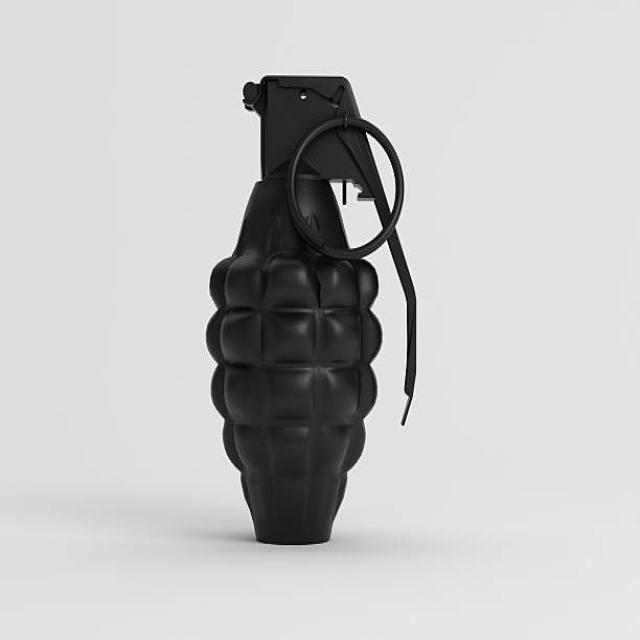grenade: (201, 62, 432, 555)
